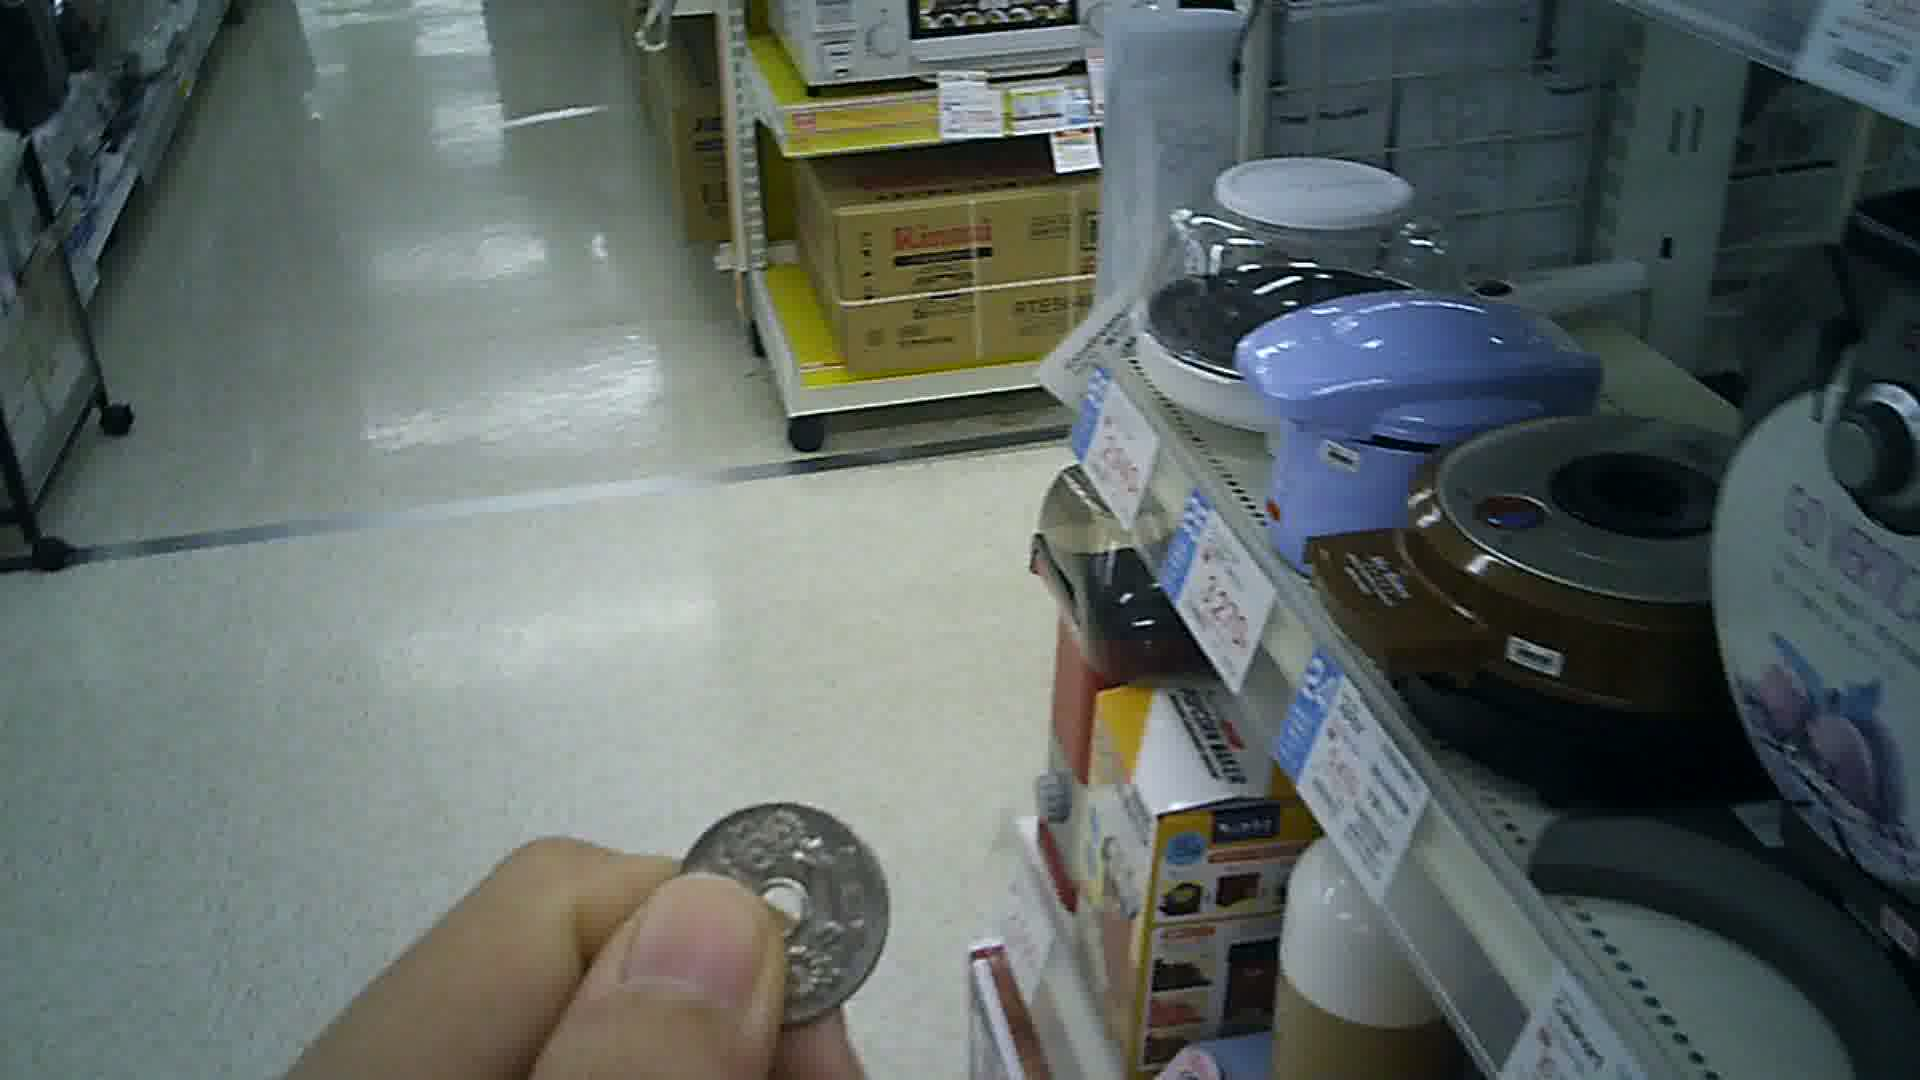50 Yen: (676, 790, 895, 1040)
